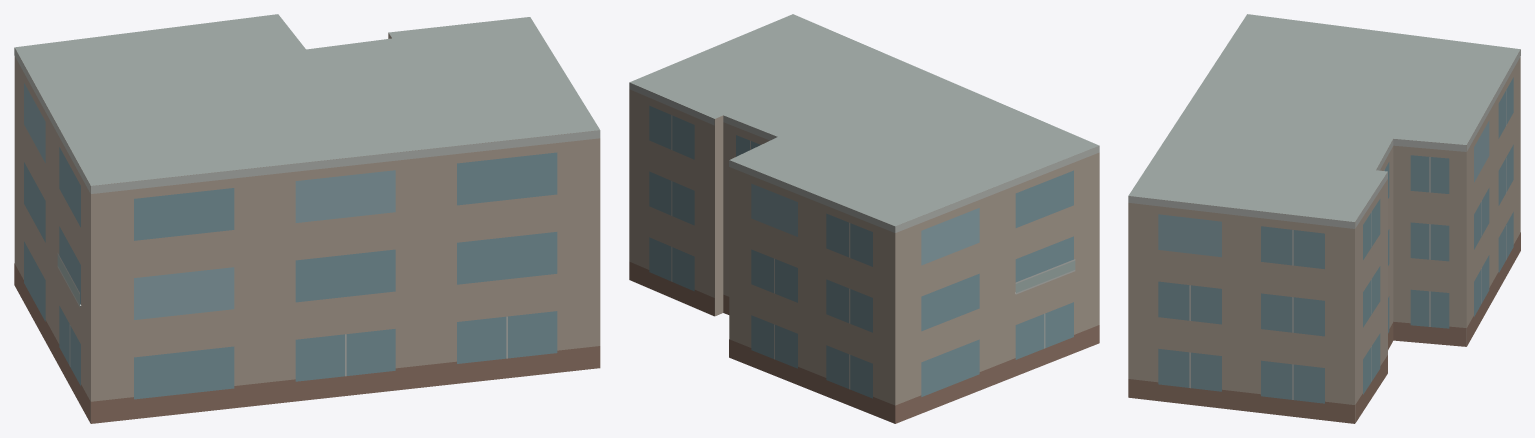
Rendered from survey-upis-32636459.glb.
The picture shows the model from 3 angles, left to right: view 1: azimuth 30°, elevation 25°; view 2: azimuth 150°, elevation 25°; view 3: azimuth 270°, elevation 25°; orthographic projection. The views are drawn at different scales.
Visible parts, largest first — view 1: survey-upis-32636459.tmp; view 2: survey-upis-32636459.tmp; view 3: survey-upis-32636459.tmp.
Part boxes in pixels (<box>): survey-upis-32636459.tmp: <box>14,14,600,423</box>; survey-upis-32636459.tmp: <box>629,14,1099,423</box>; survey-upis-32636459.tmp: <box>1128,14,1520,423</box>.
Size of the model in its own units: 15.76 by 7.12 by 12.56.
